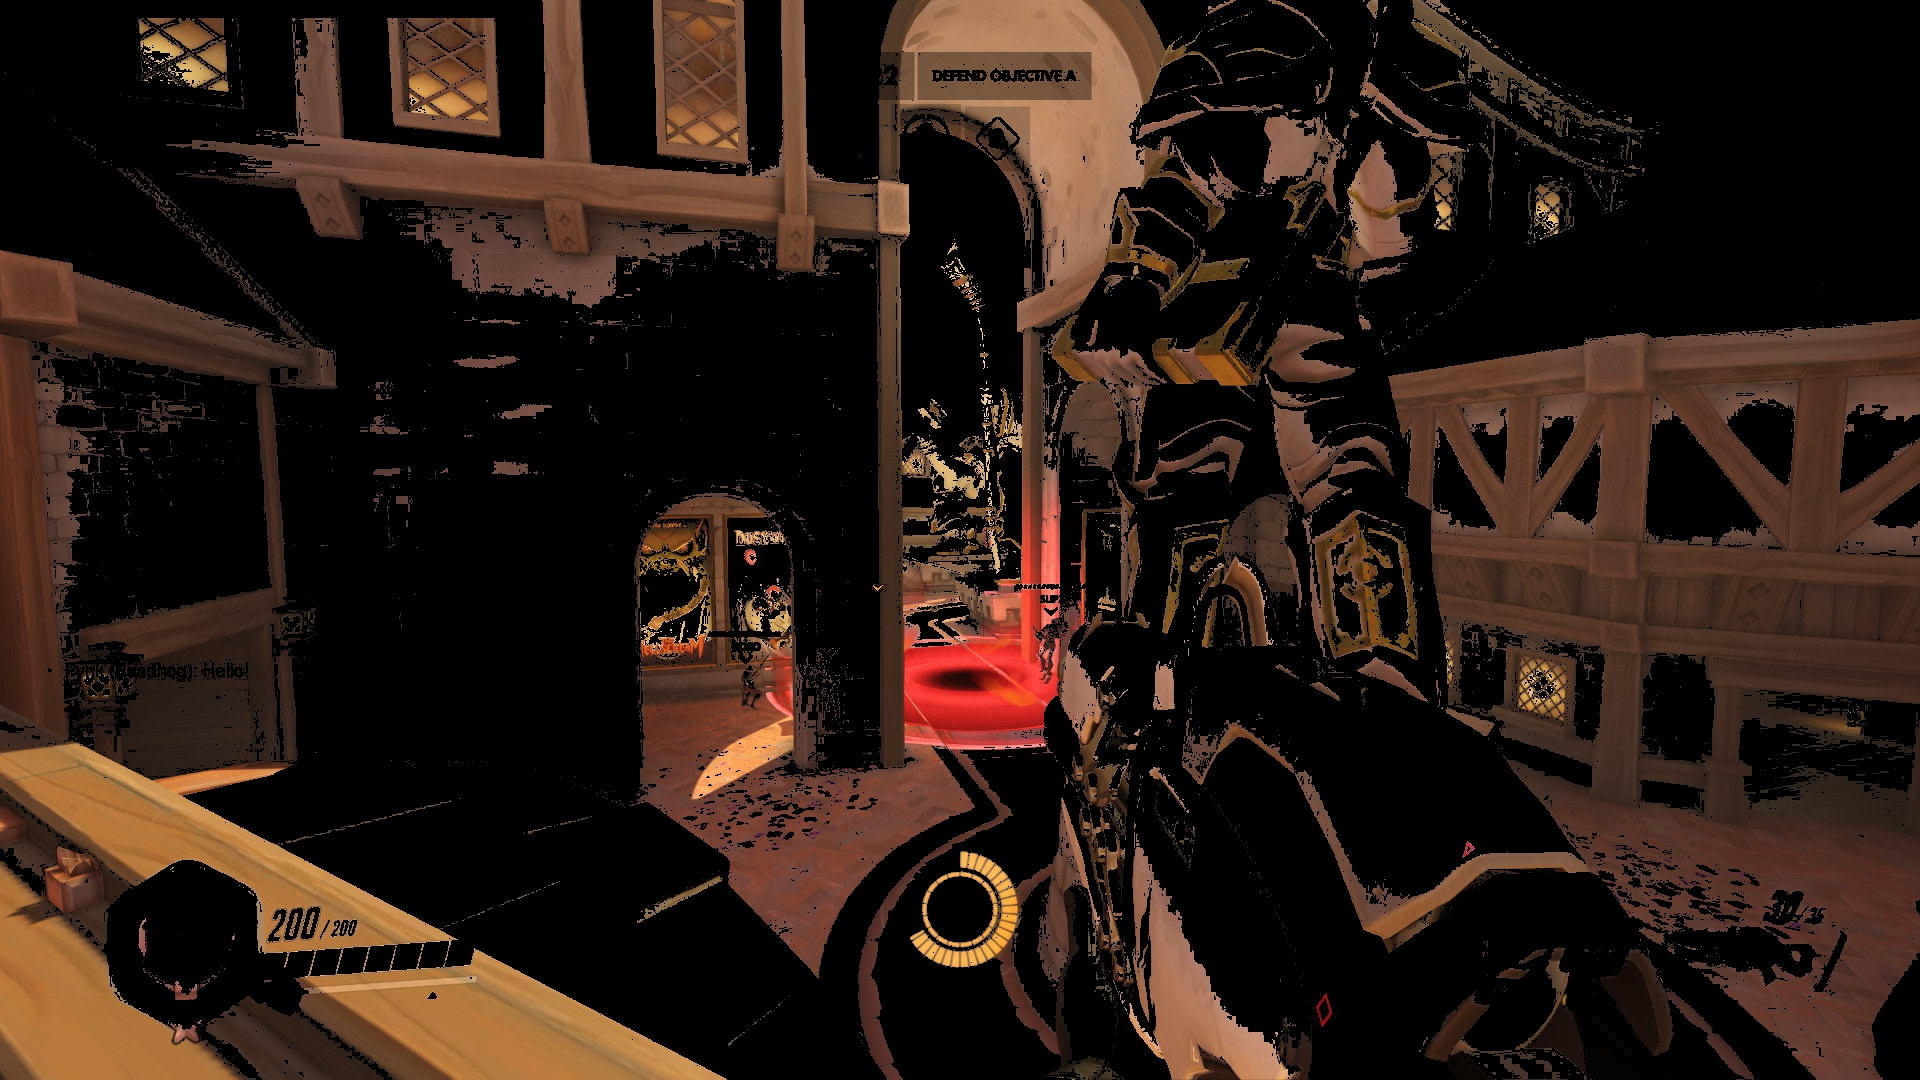widowmaker: (981, 521, 996, 551)
